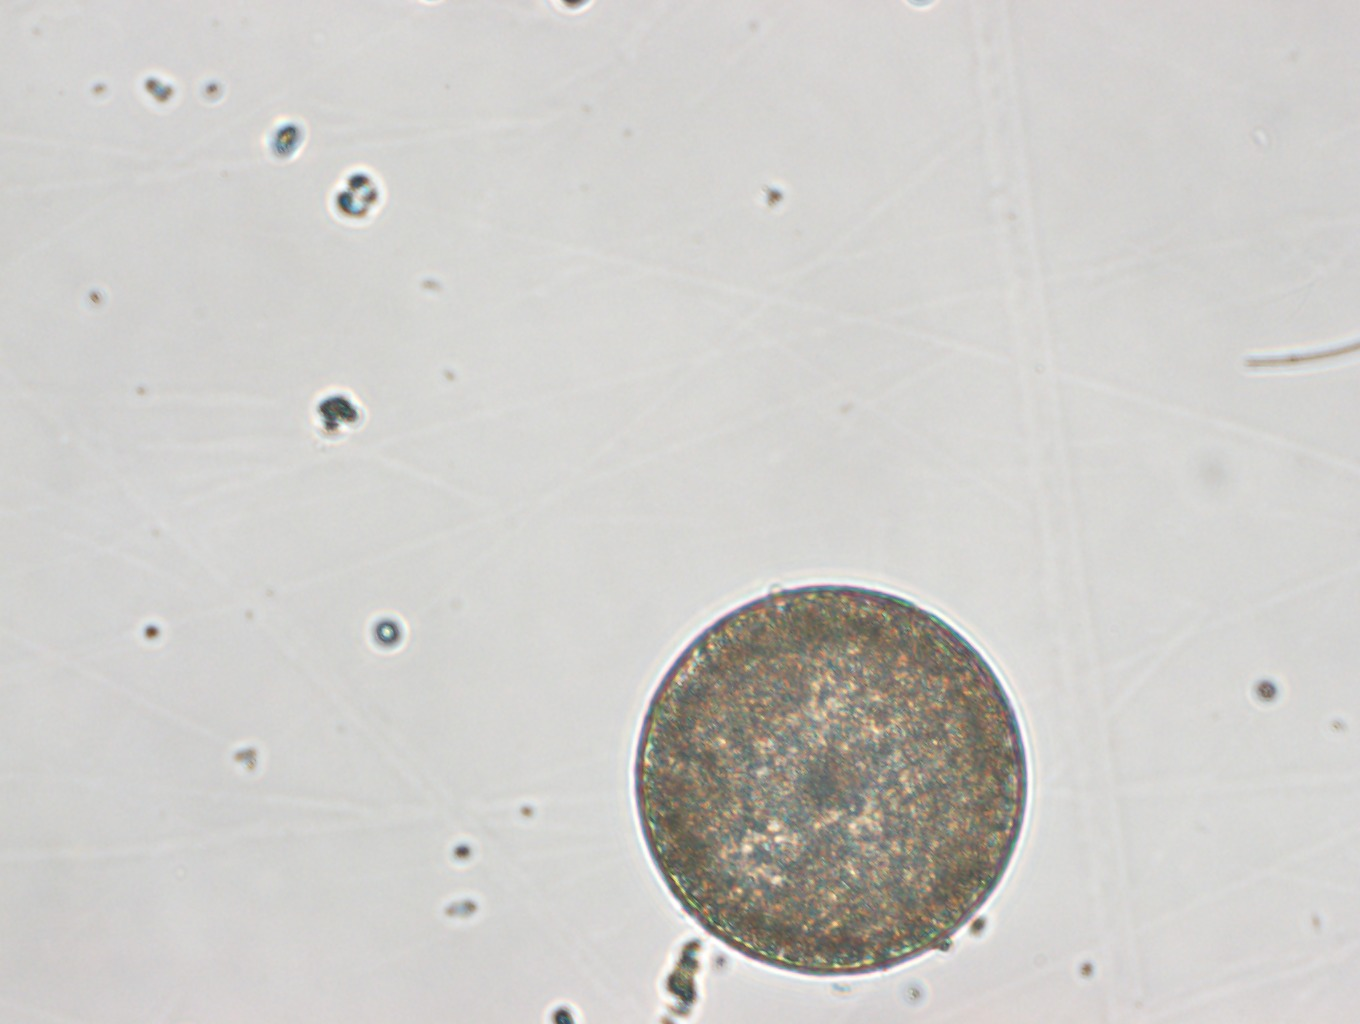coscinodiscus: (628, 575, 1037, 992)
